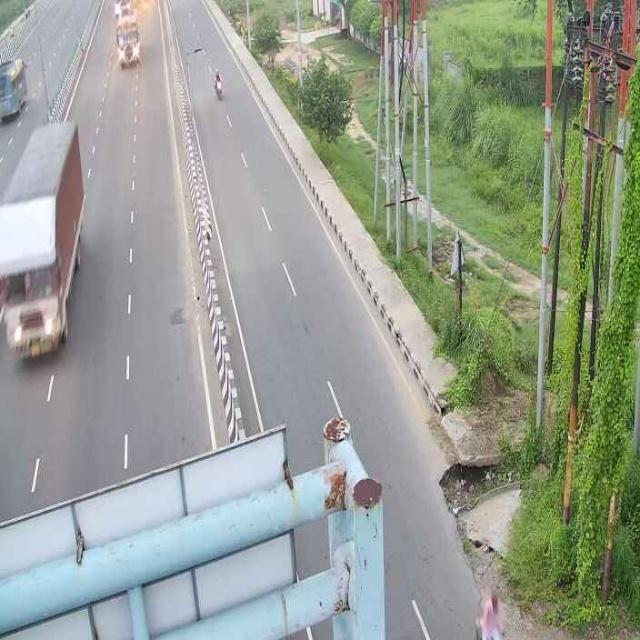car: (111, 1, 142, 73)
